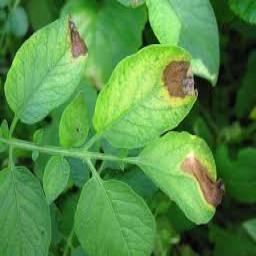Late_blight: (179, 155, 226, 207), (163, 60, 195, 97), (69, 21, 90, 57)
Leaf: (93, 44, 198, 148), (4, 17, 89, 124), (137, 130, 227, 223), (75, 176, 156, 256), (59, 93, 88, 149), (43, 157, 70, 204)
